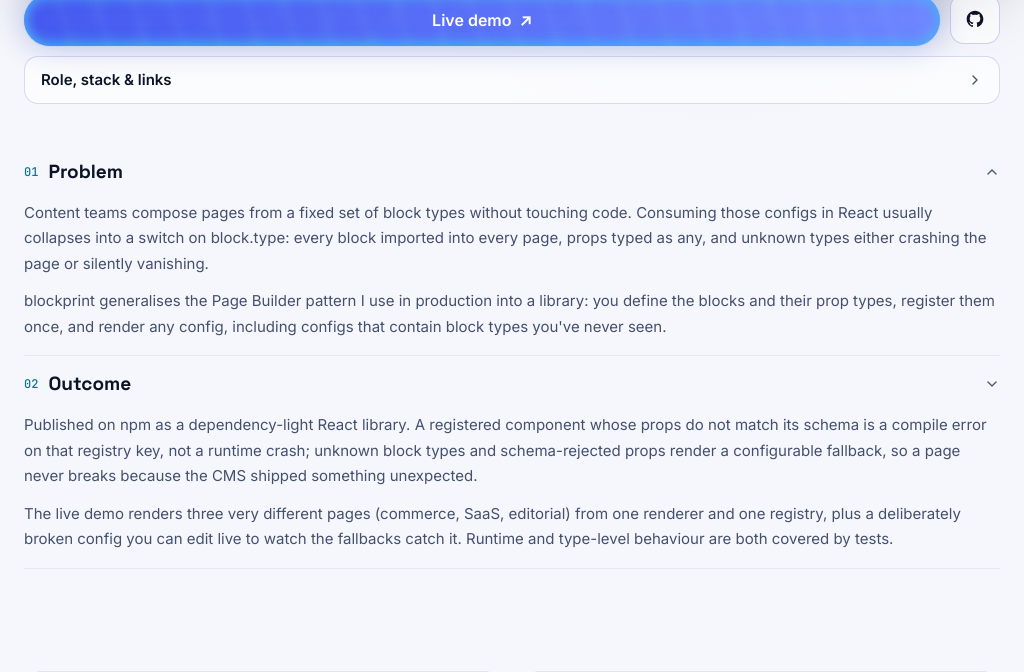
it: ProjectDetail links › starts the phone case study with Problem open and Outcome collapsed
The image size is (1024, 672).
(page scrolled)
Click the button "02 Outcome". click: (90, 384)
box: 24,356 -> 1000,412
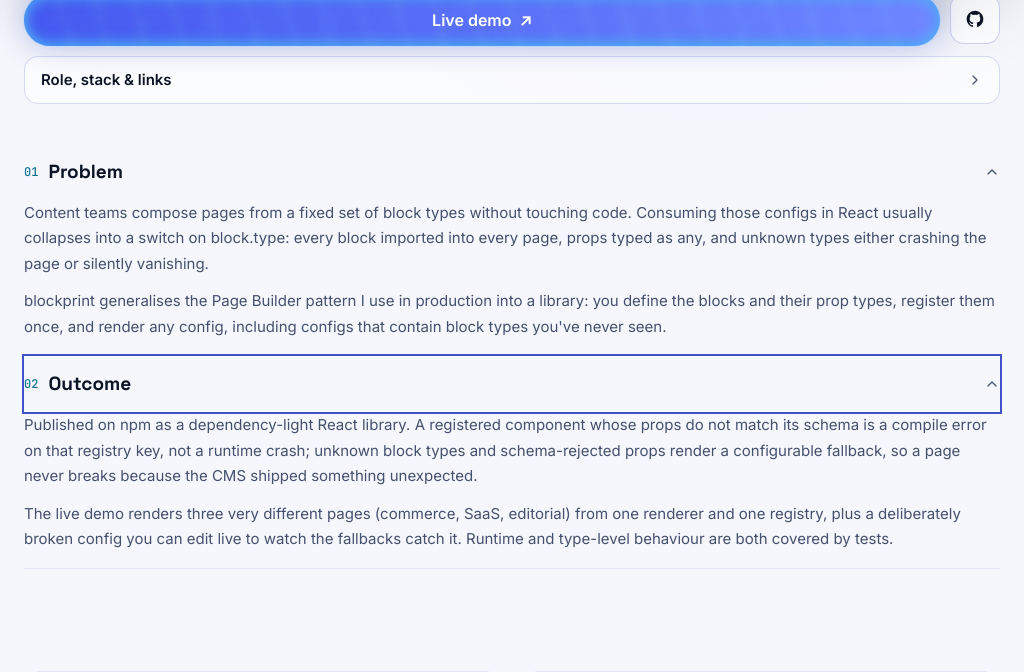
Expected: the button "02 Outcome" is expanded, 24,356 -> 1000,412
